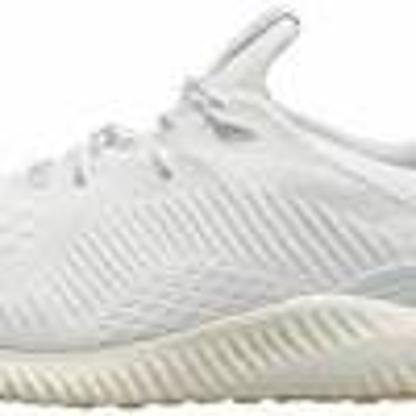not trash: (4, 2, 416, 401)
